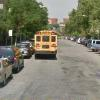Bus: (31, 25, 61, 66)
